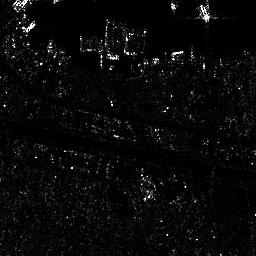ship: (198, 5, 211, 21)
